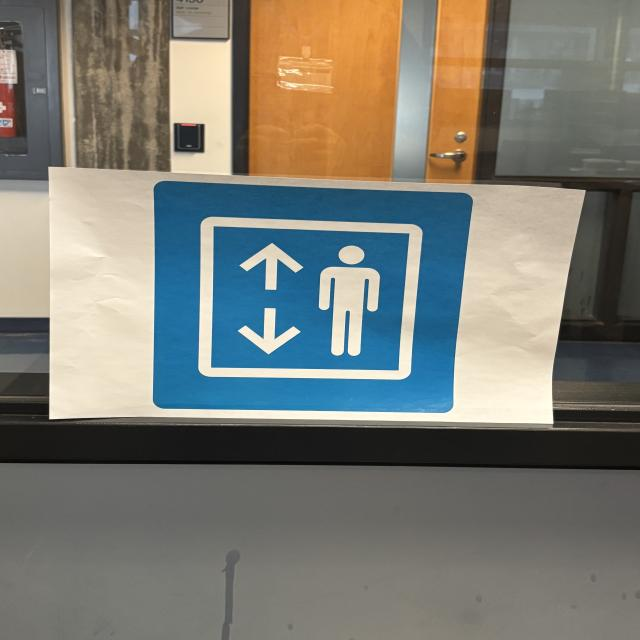elevator: (152, 183, 459, 413)
